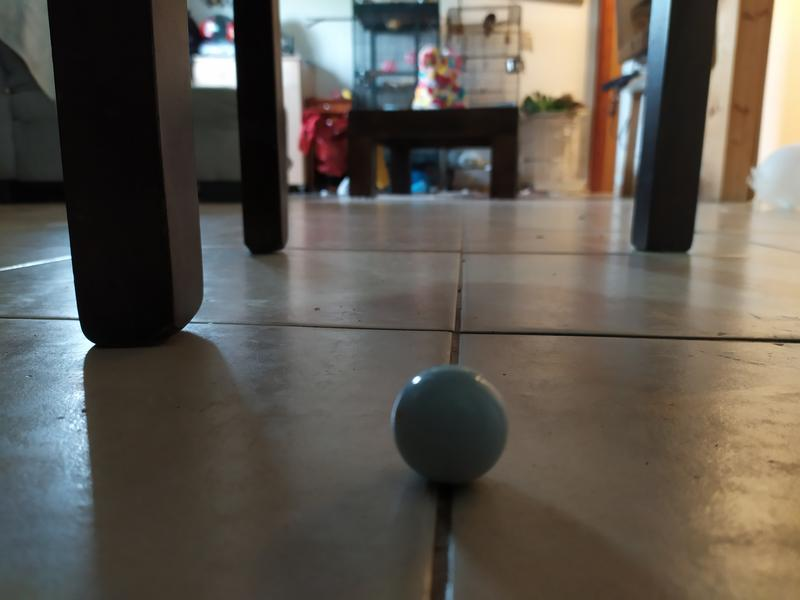Warning: (387, 361, 514, 487)
